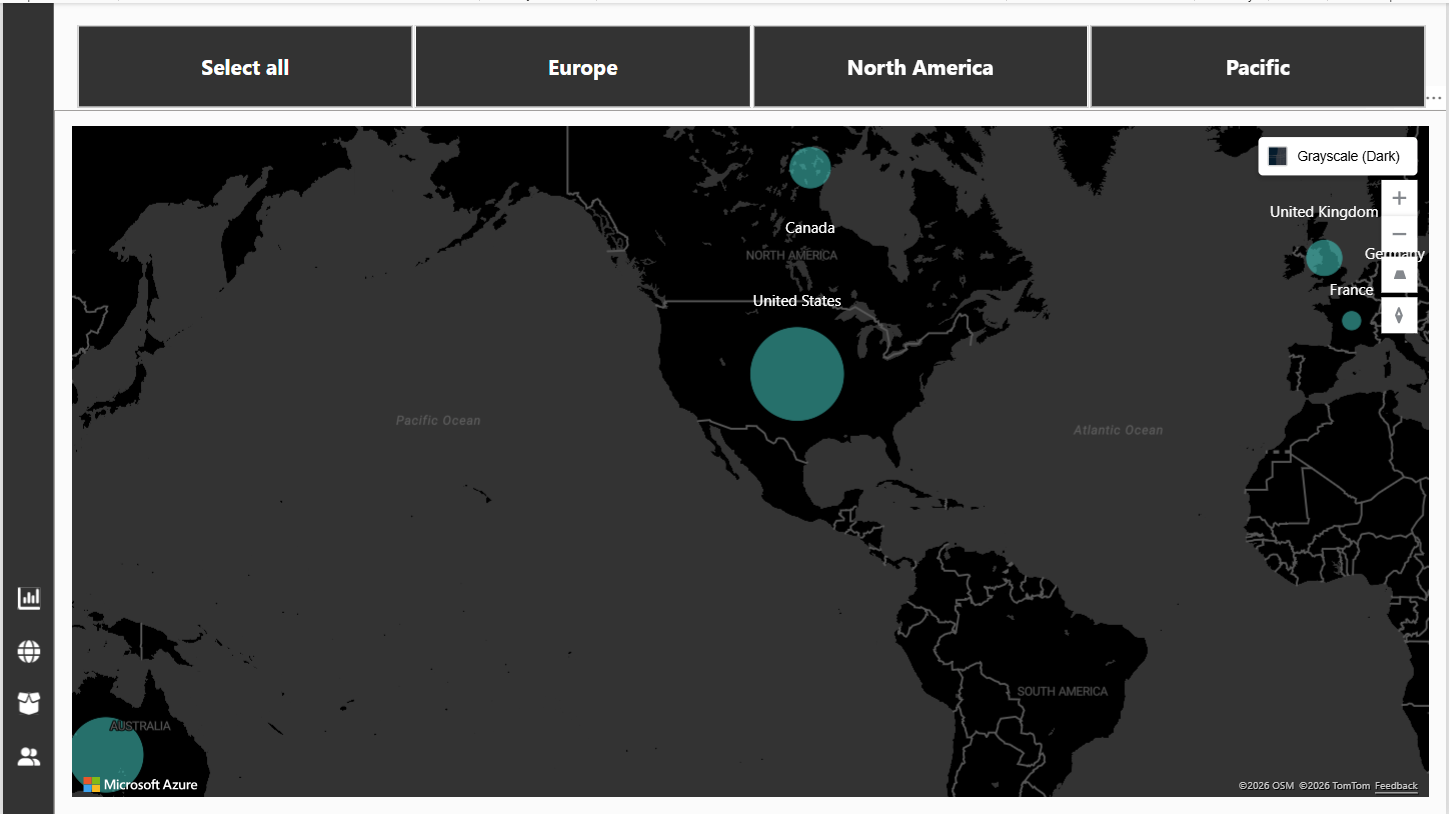

This screenshot's page, from the dashboard's own definition file:
{"tool":"powerbi","page":{"name":"Map","canvas":[1280,720],"ordinal":1},"visuals":[{"type":"shape","title":"Left Nav Background","box":[0,0,45,720],"z":0},{"type":"azureMap","fields":{"Category":["Territory Lookup.Country"],"Size":["Measure Table.Total Orders"]},"box":[45,95,1235,625],"z":1000},{"type":"actionButton","box":[0,508,45,39],"z":1000,"group":"g1"},{"type":"slicer","fields":{"Values":["Territory Lookup.Continent"]},"box":[45,18,1235,77],"z":2000},{"type":"actionButton","box":[0,554.7,45,39],"z":2000,"group":"g1"},{"type":"group","id":"g1","title":"Navigation Buttons","box":[0,508,45,179],"z":3000},{"type":"actionButton","box":[0,601,45,39],"z":3000,"group":"g1"},{"type":"actionButton","box":[0,648,45,39],"z":4000,"group":"g1"}]}

Visuals, with their boxes on the page's 1280x720 design canvas (x1, y1, x2, y2). These are canvas units, not pixel positions in the 1449x814 screenshot, which may show the page scaled, cropped or inside an application window:
"Left Nav Background" shape: bbox=[0, 0, 45, 720]
azureMap - Territory Lookup.Country x Measure Table.Total Orders: bbox=[45, 95, 1280, 720]
actionButton: bbox=[0, 508, 45, 547]
slicer - Territory Lookup.Continent: bbox=[45, 18, 1280, 95]
actionButton: bbox=[0, 555, 45, 594]
"Navigation Buttons" group: bbox=[0, 508, 45, 687]
actionButton: bbox=[0, 601, 45, 640]
actionButton: bbox=[0, 648, 45, 687]
